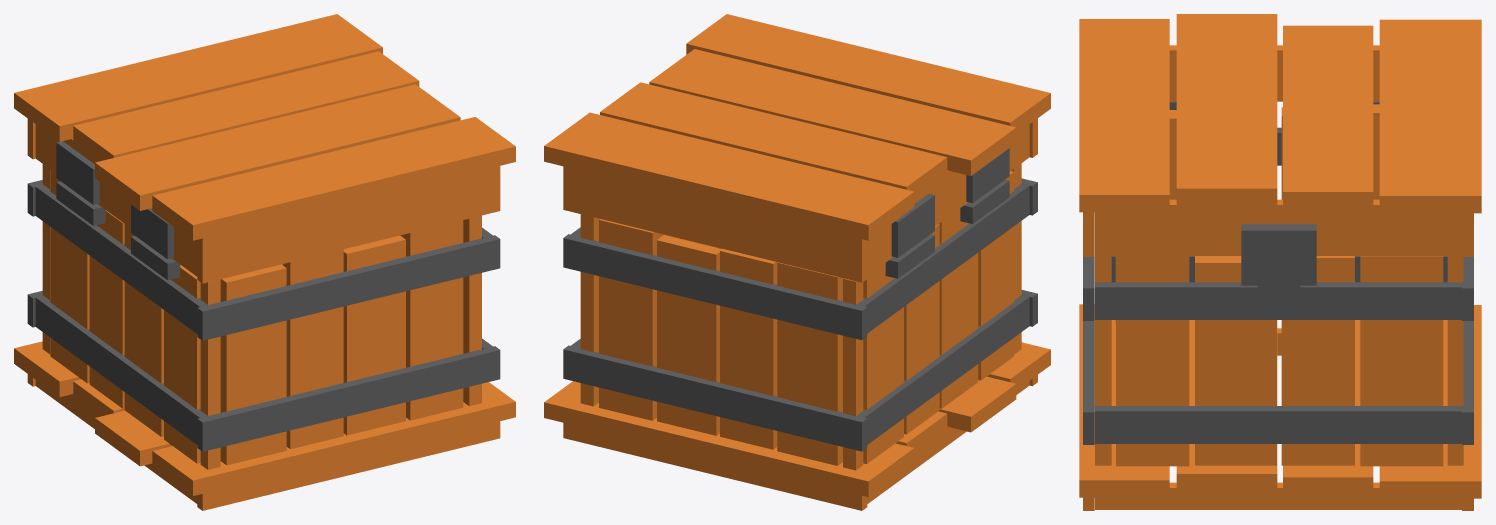
3 renders of one model, left to right at view 1: azimuth 30°, elevation 25°; view 2: azimuth 150°, elevation 25°; view 3: azimuth 270°, elevation 25°, orthographic. The views are drawn at different scales.
Parts seen in each view (by area): view 1: Cube.015, Cube.027, Cube.023, Cube.012, Cube.006, Cube.002, Cube.004, Cube.005, Cube.001, Cube.016, Cube.009, Cube.007 (+3 smaller); view 2: Cube.015, Cube.014, Cube.023, Cube.012, Cube.006, Cube.004, Cube.002, Cube.005, Cube.001, Cube.016, Cube.007, Cube.009 (+3 smaller); view 3: Cube.015, Cube.003, Cube.012, Cube.007, Cube.005, Cube.001, Cube.013, Cube.010, Cube.004, Cube.027, Cube.014, Cube.023 (+3 smaller).
Boxes of the visible parts, box(x1,y1,x2,y2) form: Cube.015: box(14, 14, 515, 240); Cube.027: box(200, 215, 481, 469); Cube.023: box(50, 169, 200, 463); Cube.012: box(14, 341, 515, 495); Cube.006: box(27, 119, 500, 283); Cube.002: box(27, 180, 500, 340); Cube.004: box(27, 291, 500, 451); Cube.005: box(35, 295, 492, 444); Cube.001: box(35, 184, 492, 333); Cube.016: box(27, 374, 500, 510); Cube.009: box(56, 141, 105, 225); Cube.007: box(35, 124, 197, 276); Cube.015: box(544, 14, 1050, 240); Cube.014: box(580, 214, 863, 470); Cube.023: box(863, 171, 1013, 463); Cube.012: box(544, 342, 1050, 496); Cube.006: box(563, 118, 1037, 282); Cube.004: box(563, 290, 1037, 451); Cube.002: box(563, 178, 1037, 340); Cube.005: box(570, 295, 1029, 444); Cube.001: box(570, 183, 1029, 333); Cube.016: box(563, 375, 1037, 510); Cube.007: box(867, 124, 1029, 275); Cube.009: box(885, 193, 934, 278); Cube.015: box(1079, 14, 1481, 213); Cube.003: box(1116, 256, 1443, 466); Cube.012: box(1079, 304, 1481, 498); Cube.007: box(1095, 45, 1461, 255); Cube.005: box(1095, 256, 1462, 443); Cube.001: box(1095, 127, 1462, 319); Cube.013: box(1095, 328, 1461, 509); Cube.010: box(1241, 224, 1316, 285); Cube.004: box(1083, 321, 1473, 444); Cube.027: box(1095, 256, 1111, 465); Cube.014: box(1447, 256, 1463, 465); Cube.023: box(1115, 104, 1379, 323).
Bounding box in the file's own units: 131 × 109 × 123.
